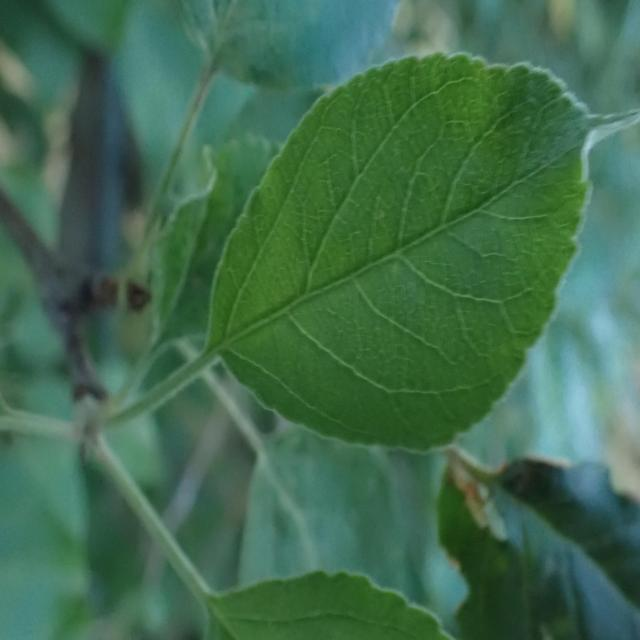healthy: (206, 49, 592, 454), (435, 455, 640, 639), (203, 567, 453, 640)
